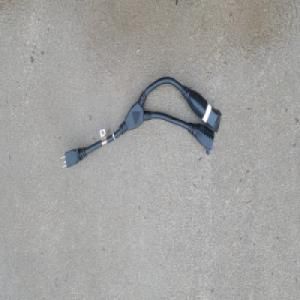Wire: (60, 75, 222, 170)
